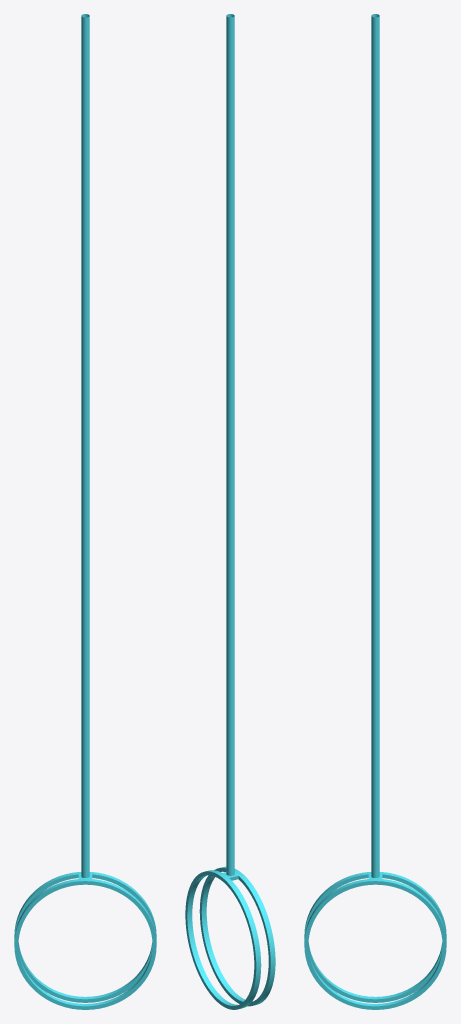
Rendered from cutter7_circle.fbx.
3 renders of one model, left to right at view 1: azimuth 90°, elevation 25°; view 2: azimuth 210°, elevation 25°; view 3: azimuth 270°, elevation 25°, orthographic.
Parts seen in each view (by area): view 1: Cutter7_Circle; view 2: Cutter7_Circle; view 3: Cutter7_Circle.
Part boxes in pixels (x1,y1,x2,y2): Cutter7_Circle: (14,14,156,1009); Cutter7_Circle: (185,14,275,1009); Cutter7_Circle: (304,14,446,1009).
Size of the model in its own units: 16.67 by 814 by 106.
